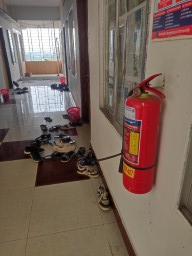fire_extinguisher: (55, 34, 146, 94)
